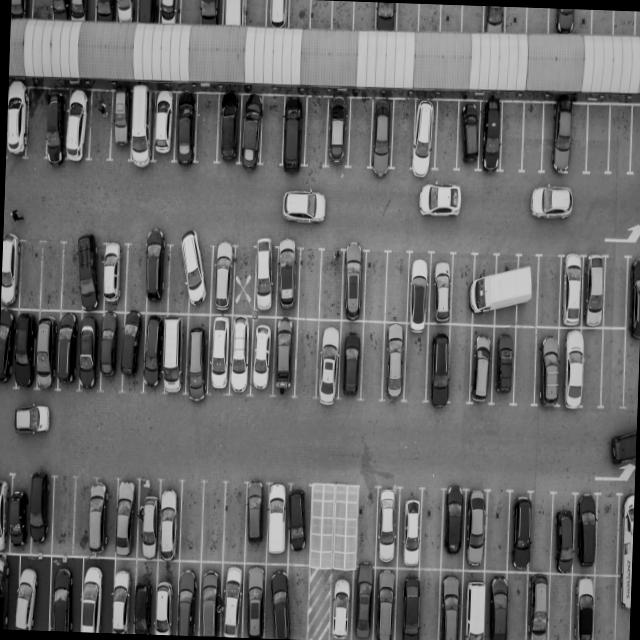car: (75, 554, 112, 631), (558, 326, 590, 408), (48, 556, 82, 632), (8, 554, 42, 630), (545, 102, 579, 176), (22, 552, 55, 628), (183, 314, 213, 395), (248, 316, 278, 396), (158, 313, 188, 393), (534, 328, 564, 407), (183, 238, 214, 313), (269, 316, 298, 396), (194, 561, 225, 635), (208, 240, 238, 316), (218, 562, 248, 638), (438, 487, 466, 568), (336, 318, 364, 398), (204, 315, 232, 395), (396, 487, 424, 567), (224, 316, 252, 396), (460, 568, 491, 640), (409, 100, 439, 174), (381, 321, 409, 400), (120, 311, 148, 390), (314, 319, 342, 398), (491, 252, 521, 325), (372, 486, 399, 567), (468, 322, 496, 400), (155, 481, 183, 559), (22, 472, 50, 550), (463, 490, 490, 570), (558, 257, 588, 329), (148, 562, 178, 634), (130, 558, 158, 634), (110, 557, 138, 633), (551, 496, 579, 572), (262, 561, 290, 637), (489, 323, 516, 401), (85, 478, 112, 556), (558, 101, 586, 176), (436, 568, 465, 640), (426, 324, 452, 404), (134, 478, 160, 558), (114, 480, 140, 560), (254, 241, 282, 315), (128, 90, 156, 164), (172, 560, 200, 634), (242, 562, 270, 636), (100, 243, 130, 312), (244, 483, 270, 562), (98, 309, 124, 388), (76, 311, 102, 390), (214, 93, 242, 166), (148, 90, 176, 163), (369, 565, 396, 640), (455, 100, 483, 172), (172, 93, 200, 165), (578, 255, 606, 327), (472, 252, 500, 324), (55, 312, 81, 389), (506, 494, 532, 571), (274, 242, 301, 316), (393, 566, 420, 640), (329, 569, 357, 640), (264, 484, 290, 560), (284, 490, 310, 566), (32, 312, 58, 388), (11, 308, 36, 386), (235, 94, 262, 166), (65, 89, 92, 161), (574, 494, 598, 575), (406, 253, 434, 322), (512, 253, 538, 326), (324, 98, 351, 168), (426, 255, 454, 322), (280, 96, 306, 168), (370, 99, 396, 171), (144, 240, 170, 312), (478, 103, 504, 175), (347, 568, 373, 640), (340, 249, 367, 318), (525, 571, 552, 640), (566, 571, 593, 640), (142, 313, 166, 390), (111, 89, 137, 160), (95, 478, 118, 556), (44, 88, 68, 162), (482, 573, 508, 640), (82, 239, 106, 310), (7, 85, 30, 157), (6, 476, 28, 550), (0, 551, 20, 627), (1, 238, 22, 308), (617, 492, 634, 574), (614, 572, 631, 640), (0, 308, 14, 386), (550, 8, 590, 34), (626, 256, 640, 330), (0, 478, 11, 555), (0, 553, 10, 629), (265, 0, 291, 28), (373, 2, 398, 30), (483, 5, 508, 32), (157, 0, 182, 24), (220, 0, 244, 25), (135, 0, 160, 24), (197, 0, 221, 24), (94, 0, 119, 23), (68, 0, 93, 22), (113, 0, 136, 22), (10, 0, 32, 20), (49, 0, 68, 20)
free: (444, 324, 473, 403), (290, 320, 319, 398), (280, 563, 310, 638), (198, 484, 226, 564), (358, 321, 387, 398), (402, 324, 431, 401), (307, 566, 337, 640), (510, 326, 538, 404), (176, 483, 204, 560), (484, 493, 511, 572), (222, 483, 249, 562), (417, 489, 443, 571), (600, 329, 628, 405), (412, 567, 441, 640), (352, 489, 378, 570), (534, 256, 562, 328), (88, 90, 116, 162), (50, 476, 76, 552), (229, 241, 255, 317), (194, 94, 222, 164), (608, 106, 636, 176), (448, 254, 476, 324), (529, 496, 554, 574), (432, 100, 459, 172), (347, 97, 374, 169), (260, 96, 287, 168), (546, 571, 574, 640), (498, 99, 524, 173), (586, 102, 612, 176), (594, 494, 618, 574), (580, 328, 604, 408), (604, 255, 630, 328), (520, 101, 546, 174), (388, 99, 414, 172), (303, 98, 330, 168), (360, 253, 387, 321), (383, 254, 409, 324), (298, 248, 324, 318), (62, 240, 88, 310), (124, 244, 150, 312), (317, 250, 343, 318), (593, 572, 619, 640), (504, 572, 530, 640), (26, 89, 50, 162), (38, 242, 64, 308), (18, 242, 43, 308), (167, 241, 190, 312), (310, 490, 330, 568), (71, 479, 91, 554), (622, 332, 640, 406), (329, 0, 354, 32), (352, 1, 377, 32), (394, 3, 419, 32), (309, 0, 333, 30), (439, 4, 464, 32), (630, 106, 640, 176), (526, 7, 550, 35), (418, 4, 442, 32), (287, 0, 310, 29), (461, 5, 485, 32), (503, 6, 526, 34), (611, 10, 635, 36), (244, 0, 267, 27), (179, 0, 202, 26), (591, 10, 614, 34), (31, 0, 54, 20), (634, 11, 640, 35)
